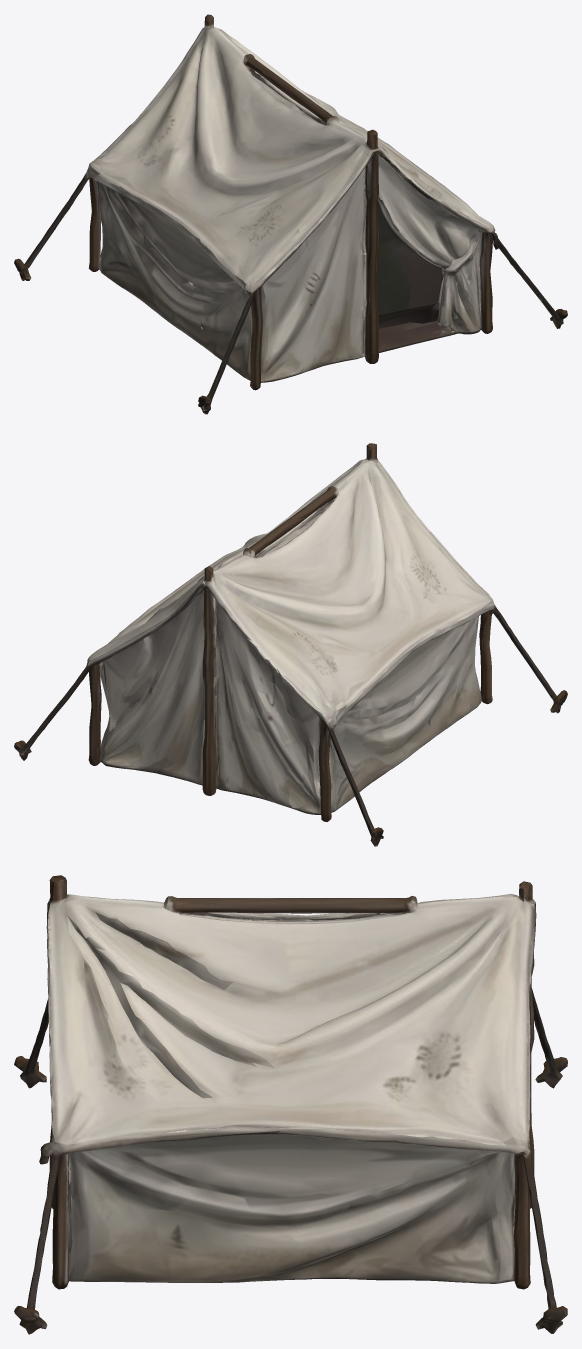
The model's file is canvas_tent.glb.
3 renders of one model, top to bottom at view 1: azimuth 30°, elevation 25°; view 2: azimuth 150°, elevation 25°; view 3: azimuth 270°, elevation 25°, orthographic. The views are drawn at different scales.
Visible parts, largest first — view 1: geometry_0; view 2: geometry_0; view 3: geometry_0.
Boxes of the visible parts, x1,y1,x2,y2 form: geometry_0: (14,14,567,414); geometry_0: (14,443,567,846); geometry_0: (14,875,567,1334).
Bounding box in the file's own units: 3 × 1.84 × 2.77.
Materials: 1 (1 with a texture image).
